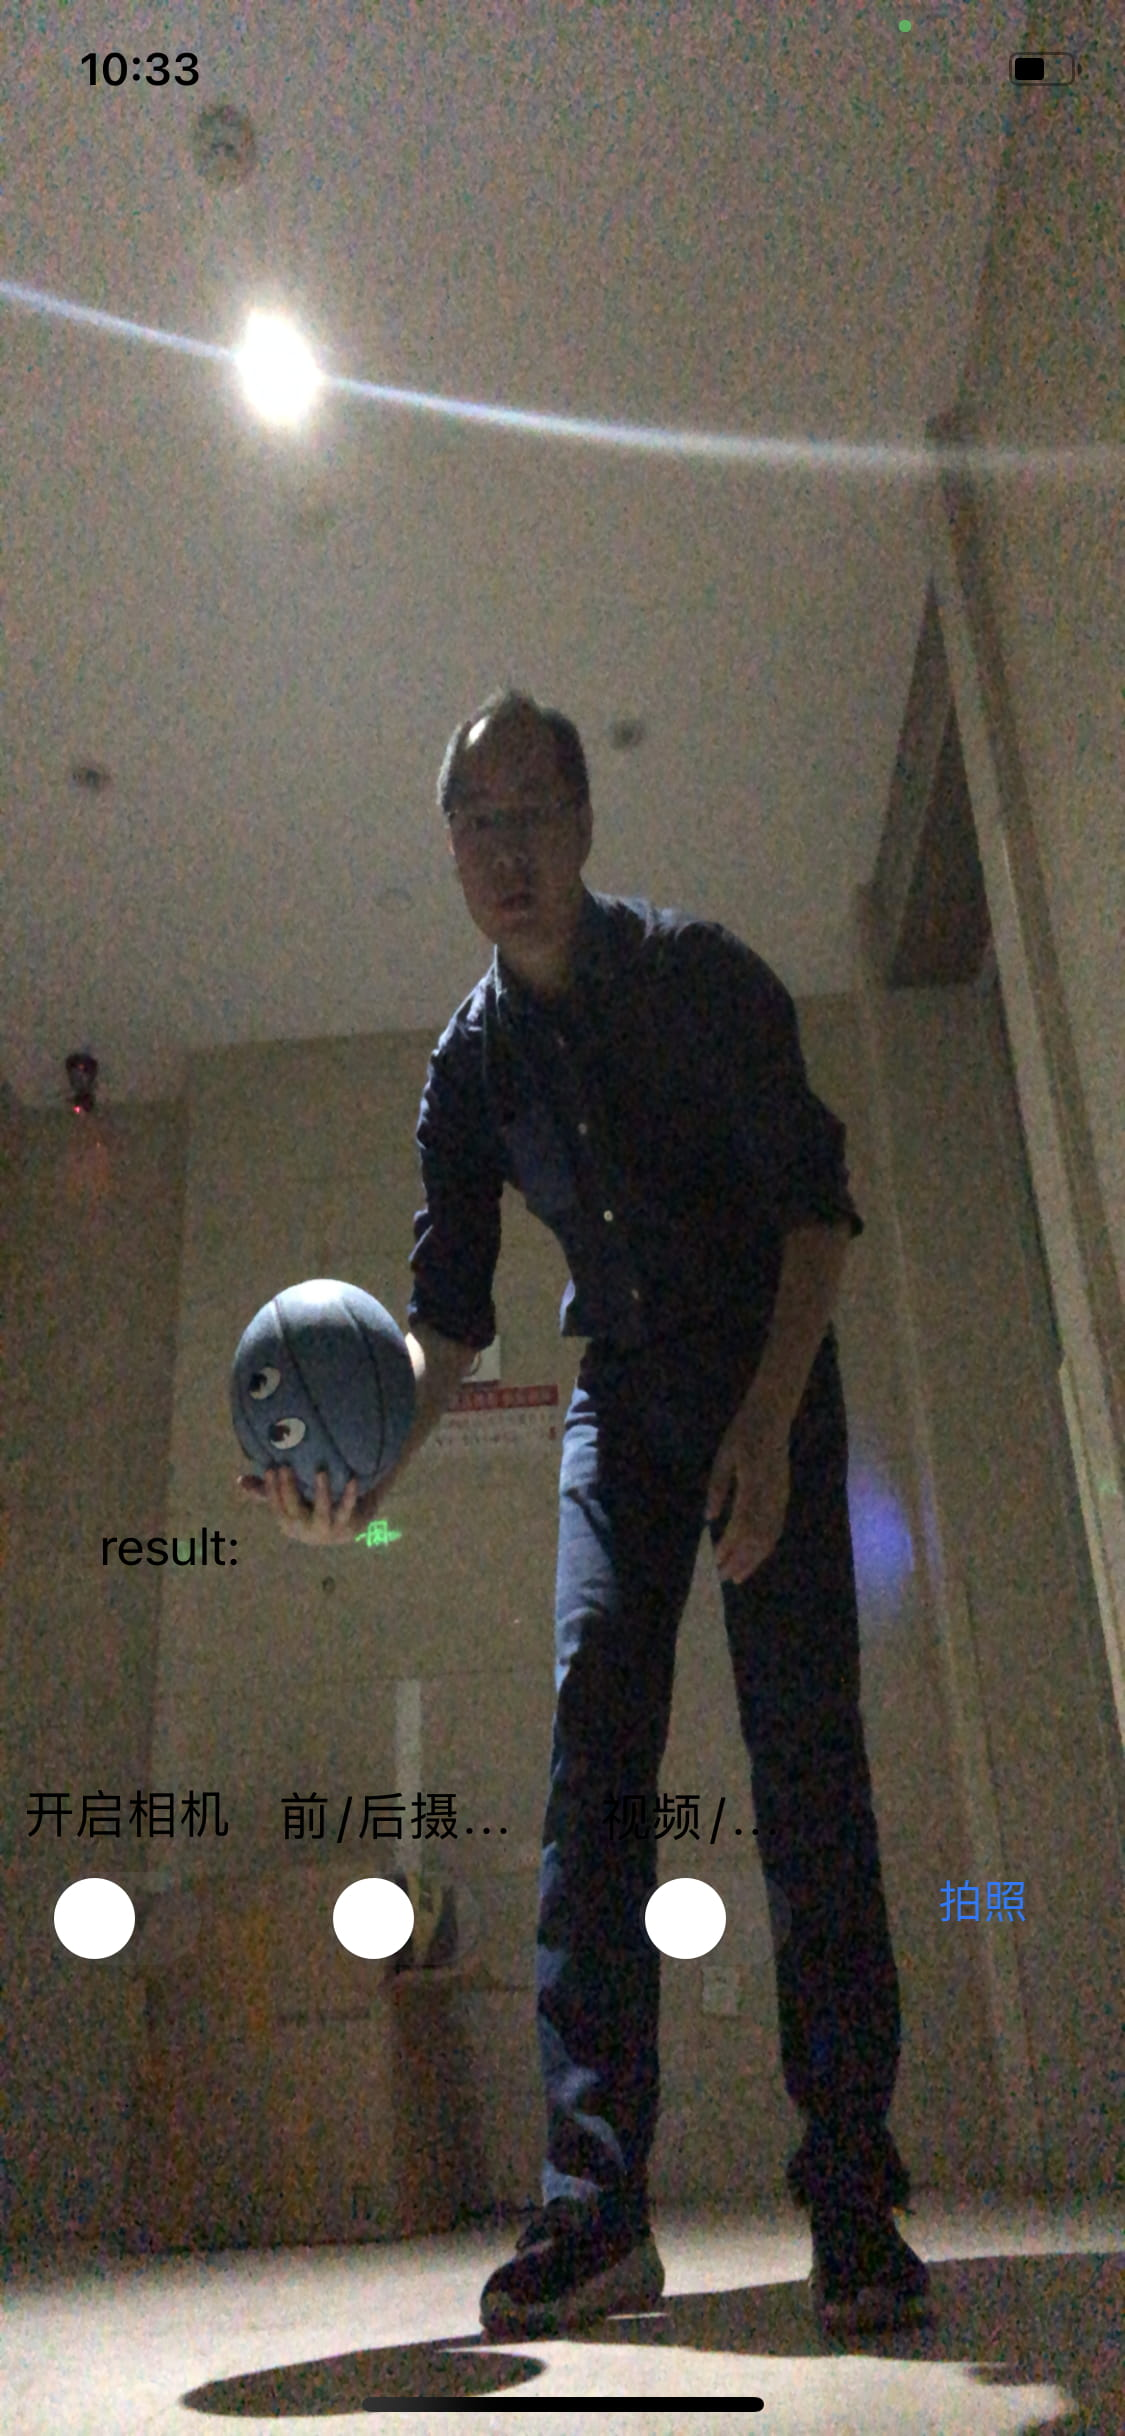ball: (230, 1279, 416, 1507)
